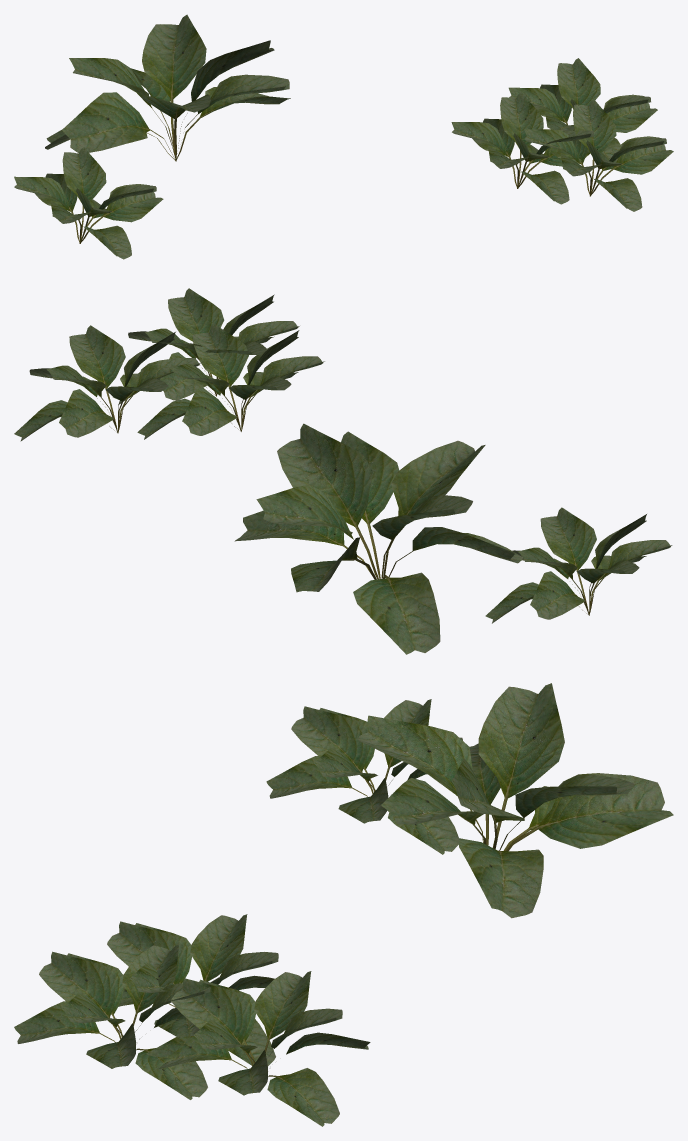
The model's file is STA20_plantgroupSM.FBX.
3 renders of one model, top to bottom at view 1: azimuth 30°, elevation 25°; view 2: azimuth 150°, elevation 25°; view 3: azimuth 270°, elevation 25°, orthographic. The views are drawn at different scales.
Parts seen in each view (by area): view 1: STA20_plantgroupSM; view 2: STA20_plantgroupSM; view 3: STA20_plantgroupSM.
Part boxes in pixels (x1,y1,x2,y2): STA20_plantgroupSM: (14, 14, 673, 259); STA20_plantgroupSM: (14, 288, 672, 654); STA20_plantgroupSM: (14, 683, 673, 1126).
Size of the model in its own units: 9.13 by 1.99 by 6.83.
